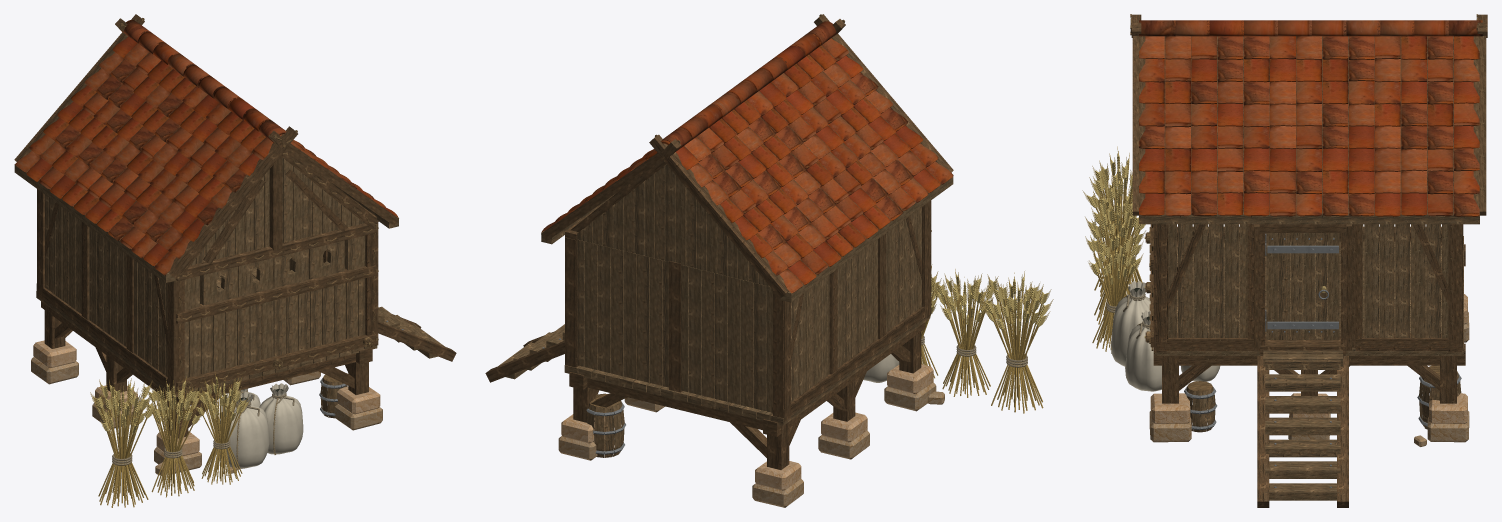
File: granary.glb
3 views of the same model, side by side, from view 1: azimuth 30°, elevation 25°; view 2: azimuth 150°, elevation 25°; view 3: azimuth 270°, elevation 25° (orthographic). The views are drawn at different scales.
Visible parts, largest first — view 1: granary_Structure; view 2: granary_Structure; view 3: granary_Structure, granary_SideDoor.
Boxes of the visible parts, x1=… form: granary_Structure: x1=14, y1=14, x2=456, y2=507; granary_Structure: x1=485, y1=14, x2=1053, y2=507; granary_Structure: x1=1082, y1=14, x2=1487, y2=507; granary_SideDoor: x1=1265, y1=233, x2=1339, y2=339.
Bounding box in the file's own units: 7.8 × 5.7 × 5.7.
Materials: 16 (12 with a texture image).
